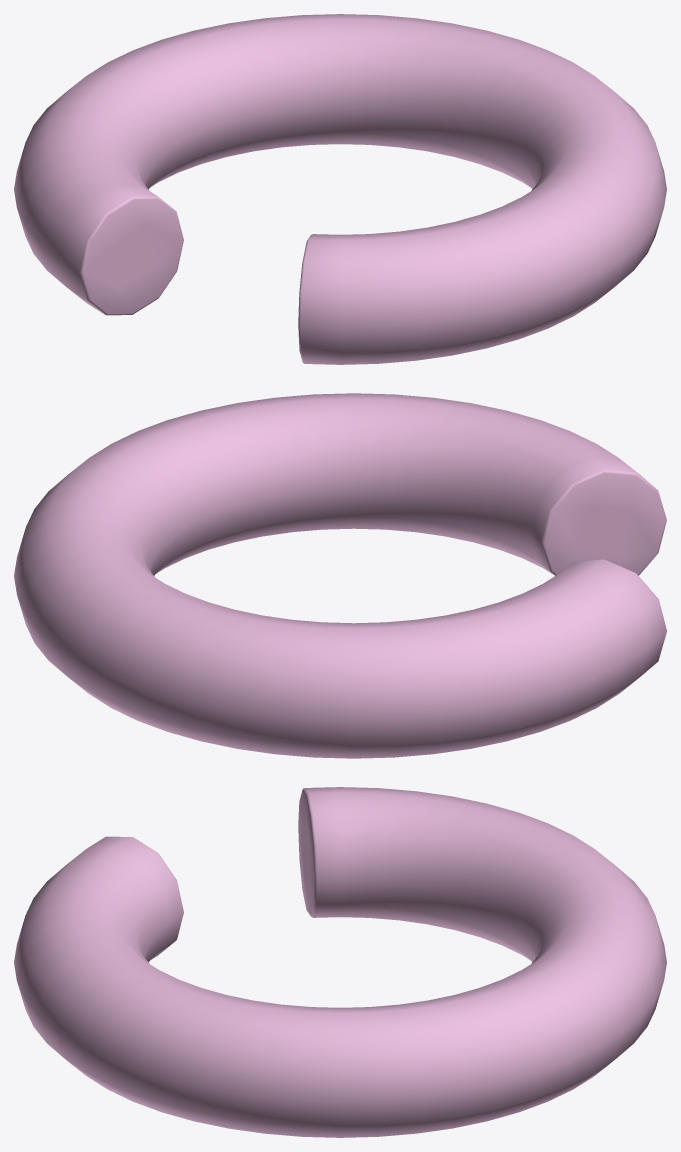
File: circulos1.fbx
The picture shows the model from 3 angles, top to bottom: view 1: azimuth 30°, elevation 25°; view 2: azimuth 150°, elevation 25°; view 3: azimuth 270°, elevation 25°; orthographic projection. The views are drawn at different scales.
Visible parts, largest first — view 1: Circulo2; view 2: Circulo2; view 3: Circulo2.
Part boxes in pixels (bbox=[...]): Circulo2: bbox=[14, 14, 666, 364]; Circulo2: bbox=[14, 393, 666, 758]; Circulo2: bbox=[14, 787, 666, 1137].
Size of the model in its own units: 2477 by 495 by 2477.
